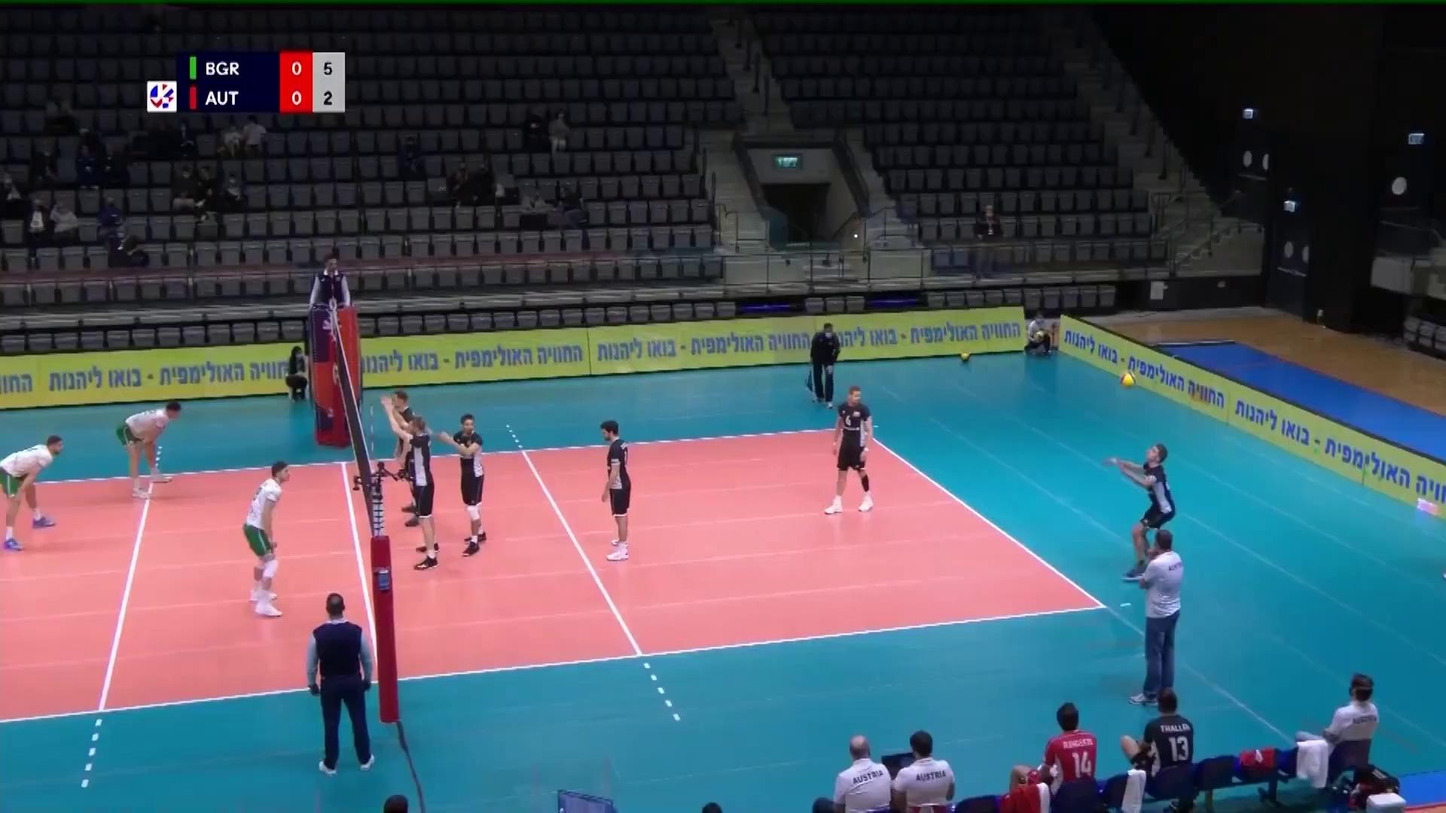ball: (1119, 368, 1138, 389)
